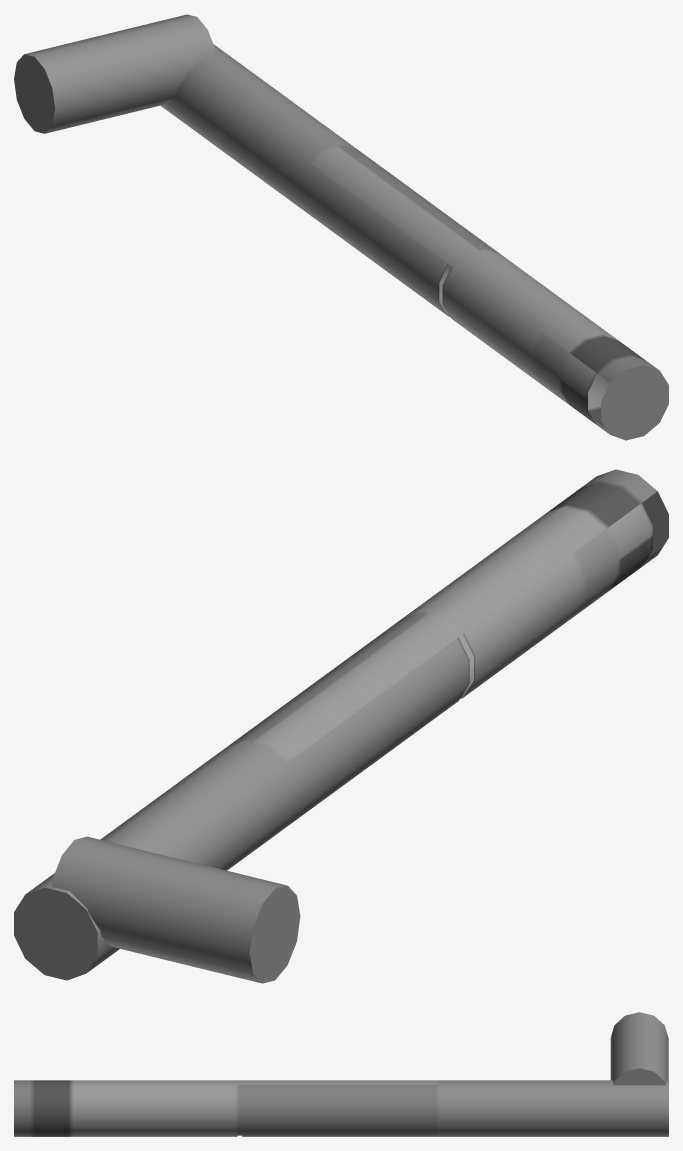
3 views of the same model, one above another, from view 1: azimuth 30°, elevation 25°; view 2: azimuth 150°, elevation 25°; view 3: azimuth 270°, elevation 25° (orthographic). The views are drawn at different scales.
Bounding box in the file's own units: 0.5827 × 0.2784 × 2.45.
